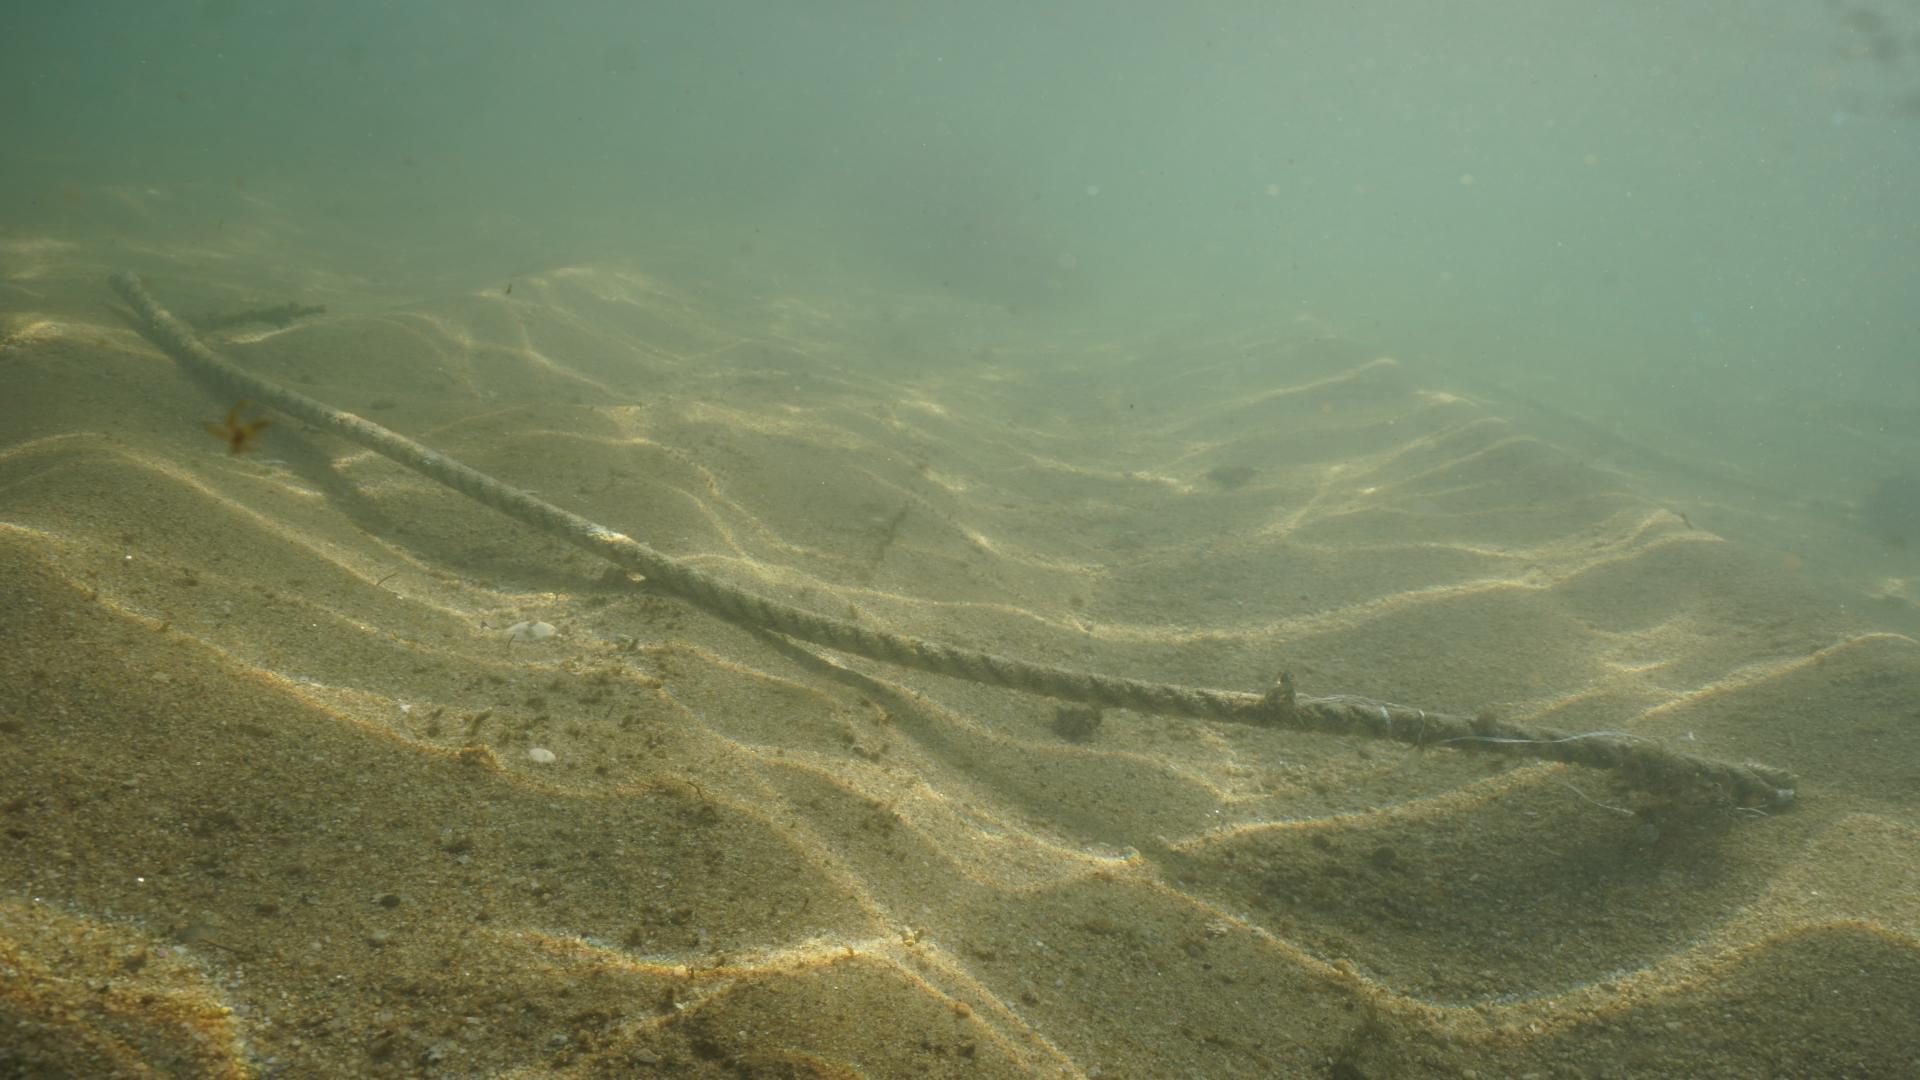rope: (104, 261, 1787, 816)
